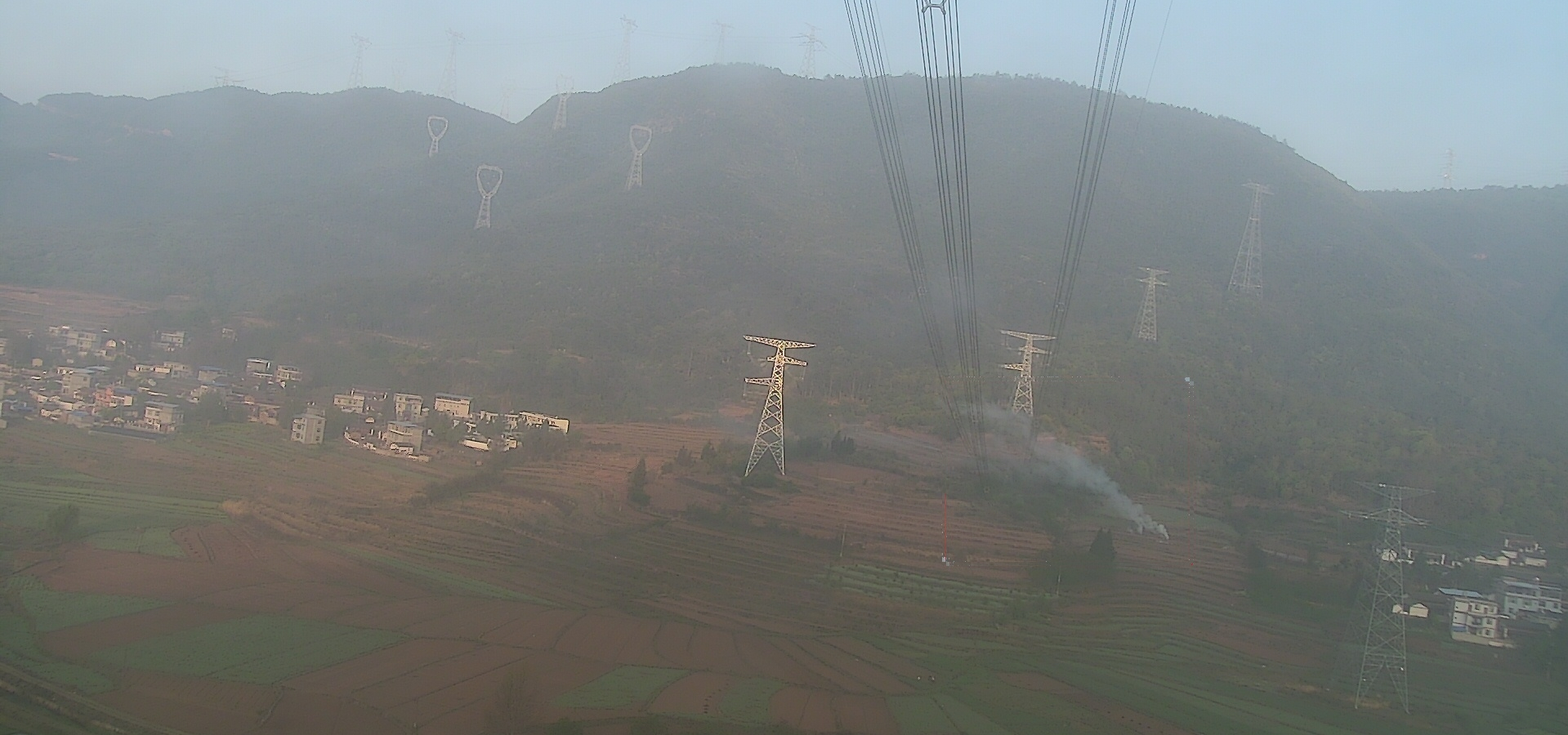烟雾: (828, 390, 1169, 540)
